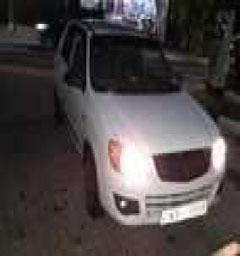car: (38, 13, 237, 235)
